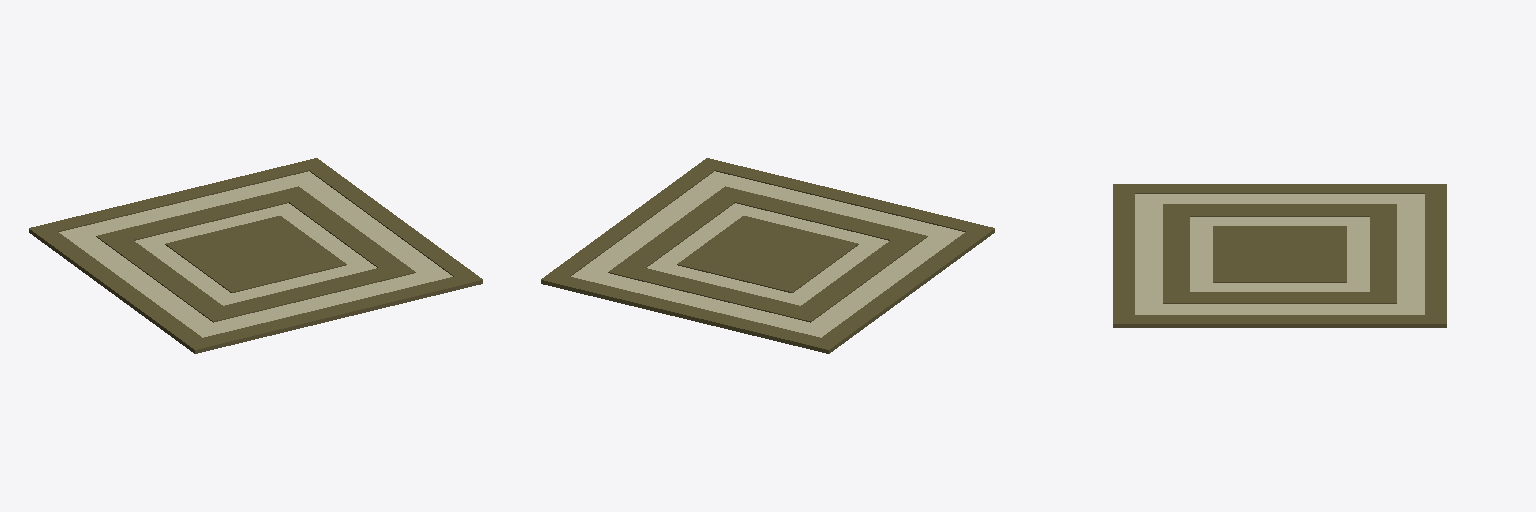
Rendered from Alfombra.obj.
3 renders of one model, left to right at view 1: azimuth 30°, elevation 25°; view 2: azimuth 150°, elevation 25°; view 3: azimuth 270°, elevation 25°, orthographic.
Parts seen in each view (by area): view 1: pCube1_Tono_Claro, pCube1_Tono_Clarito; view 2: pCube1_Tono_Claro, pCube1_Tono_Clarito; view 3: pCube1_Tono_Claro, pCube1_Tono_Clarito.
Part boxes in pixels (x1,y1,x2,y2): pCube1_Tono_Claro: (29, 158, 482, 353); pCube1_Tono_Clarito: (59, 171, 452, 337); pCube1_Tono_Claro: (541, 158, 994, 353); pCube1_Tono_Clarito: (571, 171, 964, 337); pCube1_Tono_Claro: (1113, 184, 1446, 327); pCube1_Tono_Clarito: (1135, 194, 1424, 314).
Size of the model in its own units: 2 by 0.0269 by 2.